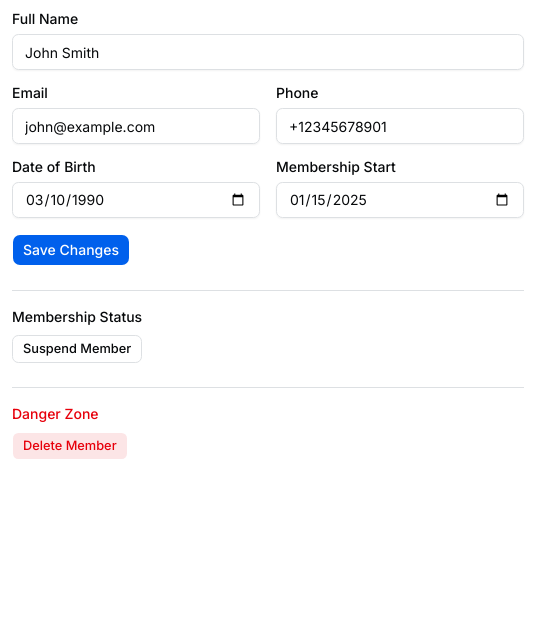
Test case: EditMemberForm › editMemberForm_allFieldsInvalid_showsAllFieldErrorsAndDoesNotCallUpdate
Replace the text in the field labelled "Full Name" with "John". click: (268, 52)
box: left=12, top=34, right=524, bottom=70
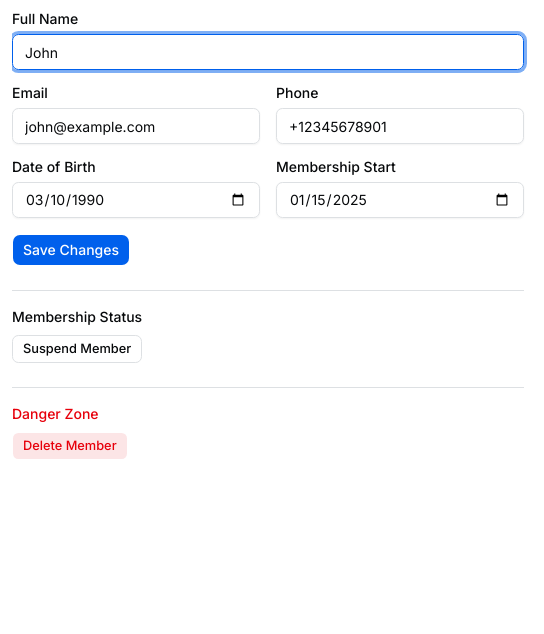
Replace the text in the field labelled "Email" with "not-an-email". click: (136, 126)
box: left=12, top=108, right=260, bottom=144
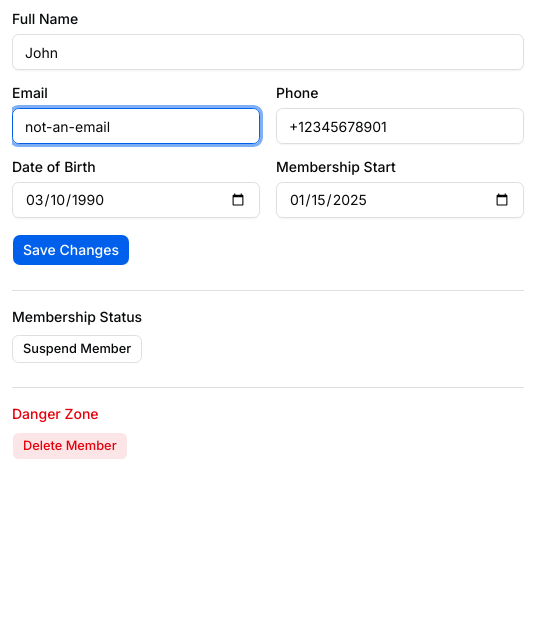
Replace the text in the field labelled "Phone" with "12 345". click: (400, 126)
box: left=276, top=108, right=524, bottom=144
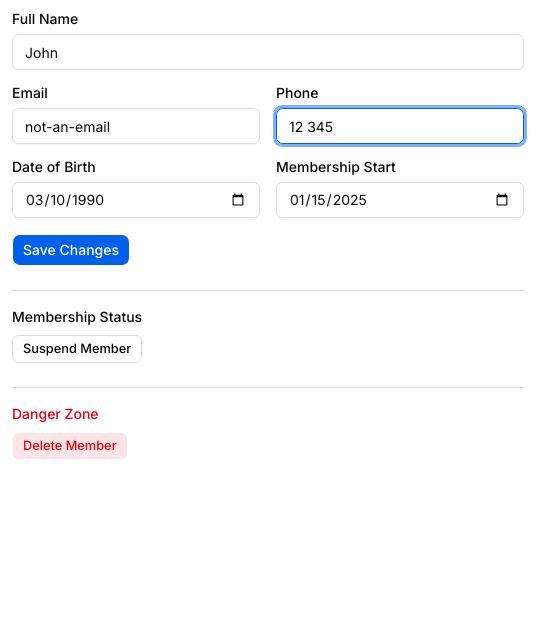
Clear the date field labelled "Date of Birth". click: (136, 200)
box: left=12, top=182, right=260, bottom=218
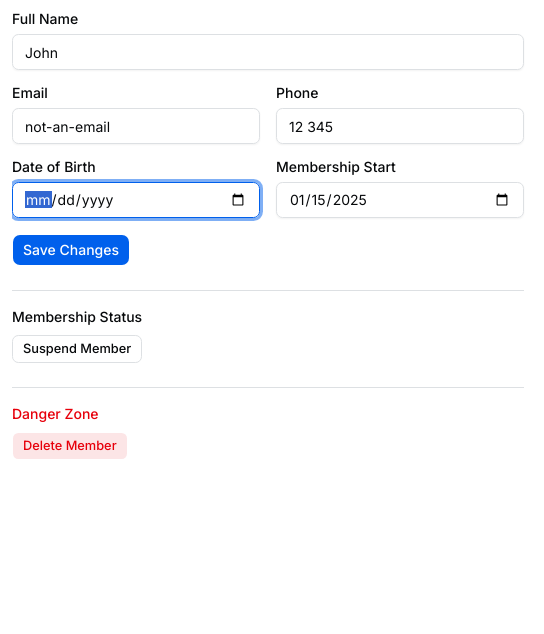
Clear the date field labelled "Membership Start". click: (400, 200)
box: left=276, top=182, right=524, bottom=218
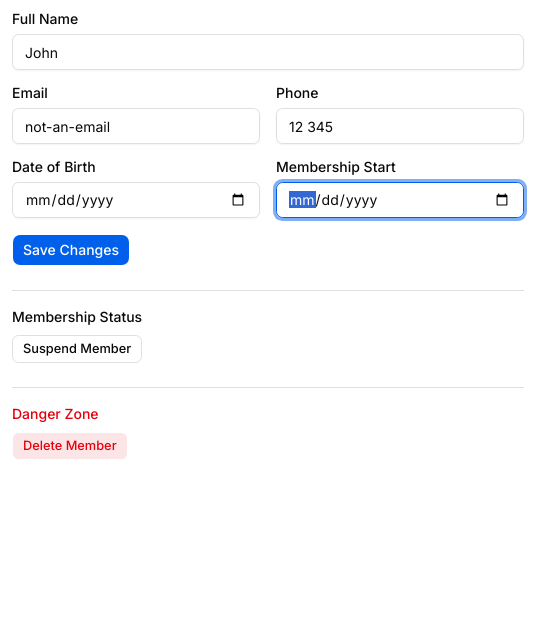
Click the button "Save Changes". click: click(71, 250)
box: left=12, top=234, right=130, bottom=266
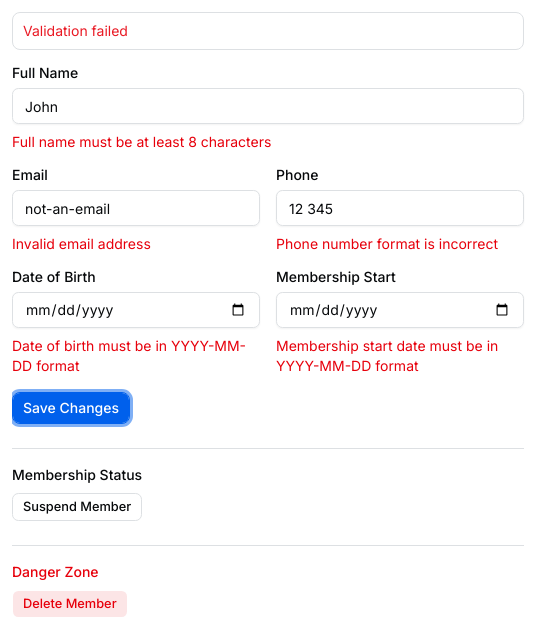
Result: the text "Membership start date must be in YYYY-MM-DD format" is shown at left=276, top=336, right=524, bottom=376
